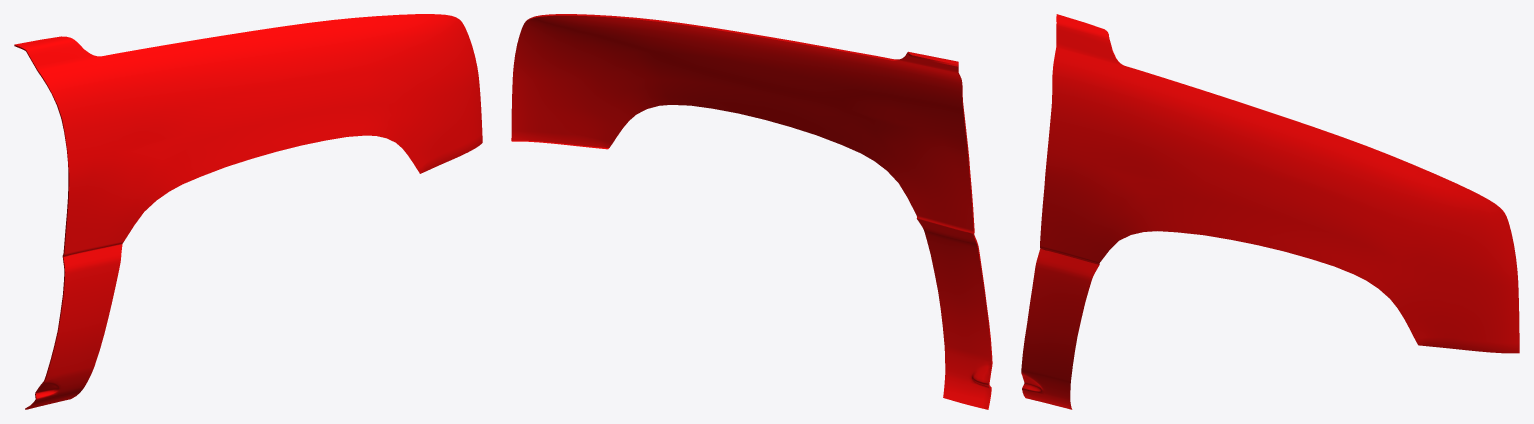
3 views of the same model, side by side, from view 1: azimuth 30°, elevation 25°; view 2: azimuth 150°, elevation 25°; view 3: azimuth 330°, elevation 25° (orthographic). The views are drawn at different scales.
Parts seen in each view (by area): view 1: U805_4A_121B_R_U805_4A_121B_R_1_DaS, U805_4A_121B_R_U805_4A_121B_R_1_DaS_E; view 2: U805_4A_121B_R_U805_4A_121B_R_1_DaS, U805_4A_121B_R_U805_4A_121B_R_1_DaS_E; view 3: U805_4A_121B_R_U805_4A_121B_R_1_DaS.
Part boxes in pixels (x1,y1,x2,y2): U805_4A_121B_R_U805_4A_121B_R_1_DaS: [15, 14, 482, 409]; U805_4A_121B_R_U805_4A_121B_R_1_DaS_E: [14, 44, 419, 409]; U805_4A_121B_R_U805_4A_121B_R_1_DaS: [511, 15, 991, 409]; U805_4A_121B_R_U805_4A_121B_R_1_DaS_E: [511, 14, 992, 409]; U805_4A_121B_R_U805_4A_121B_R_1_DaS: [1021, 14, 1519, 409].
Size of the model in its own units: 112 by 81.17 by 15.85.
